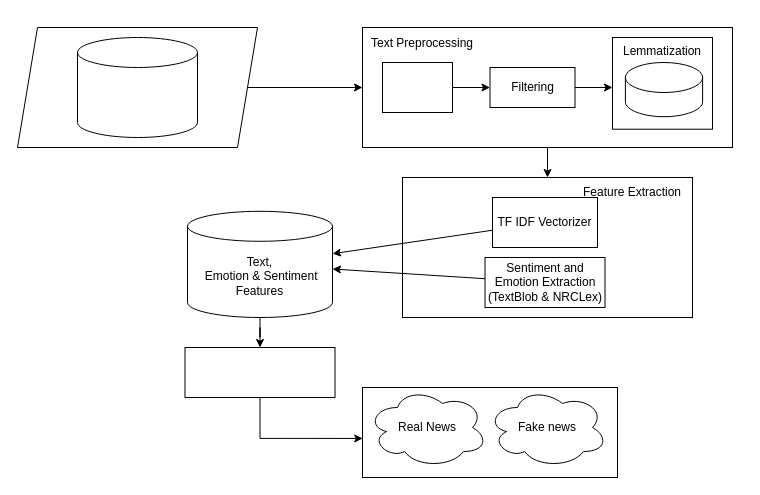
This 760x495 diagram has some shape labels left out. Here are the shapes that lost their labels. From the top down, the centre of each, then its label:
At point 137,87: "ISOT Fake News dataset".
At point 417,87: "Cleaning".
At point 259,372: "Classifiers".
